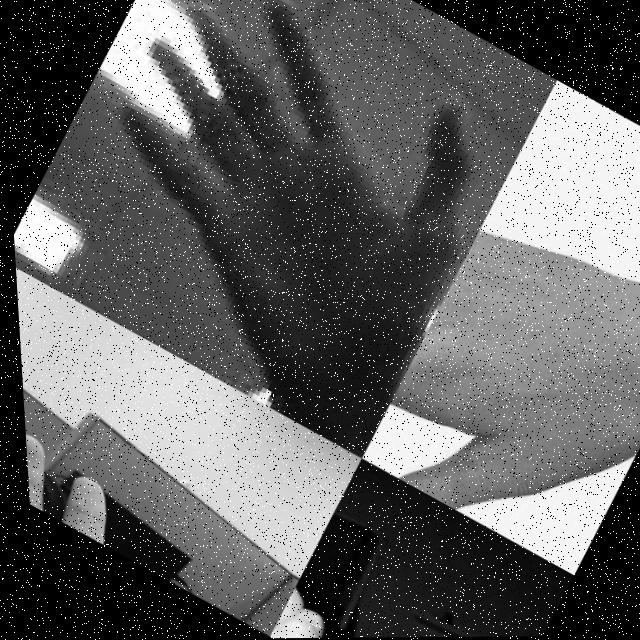hand: (29, 0, 542, 429), (342, 162, 640, 577), (18, 379, 255, 616), (253, 458, 533, 639)
